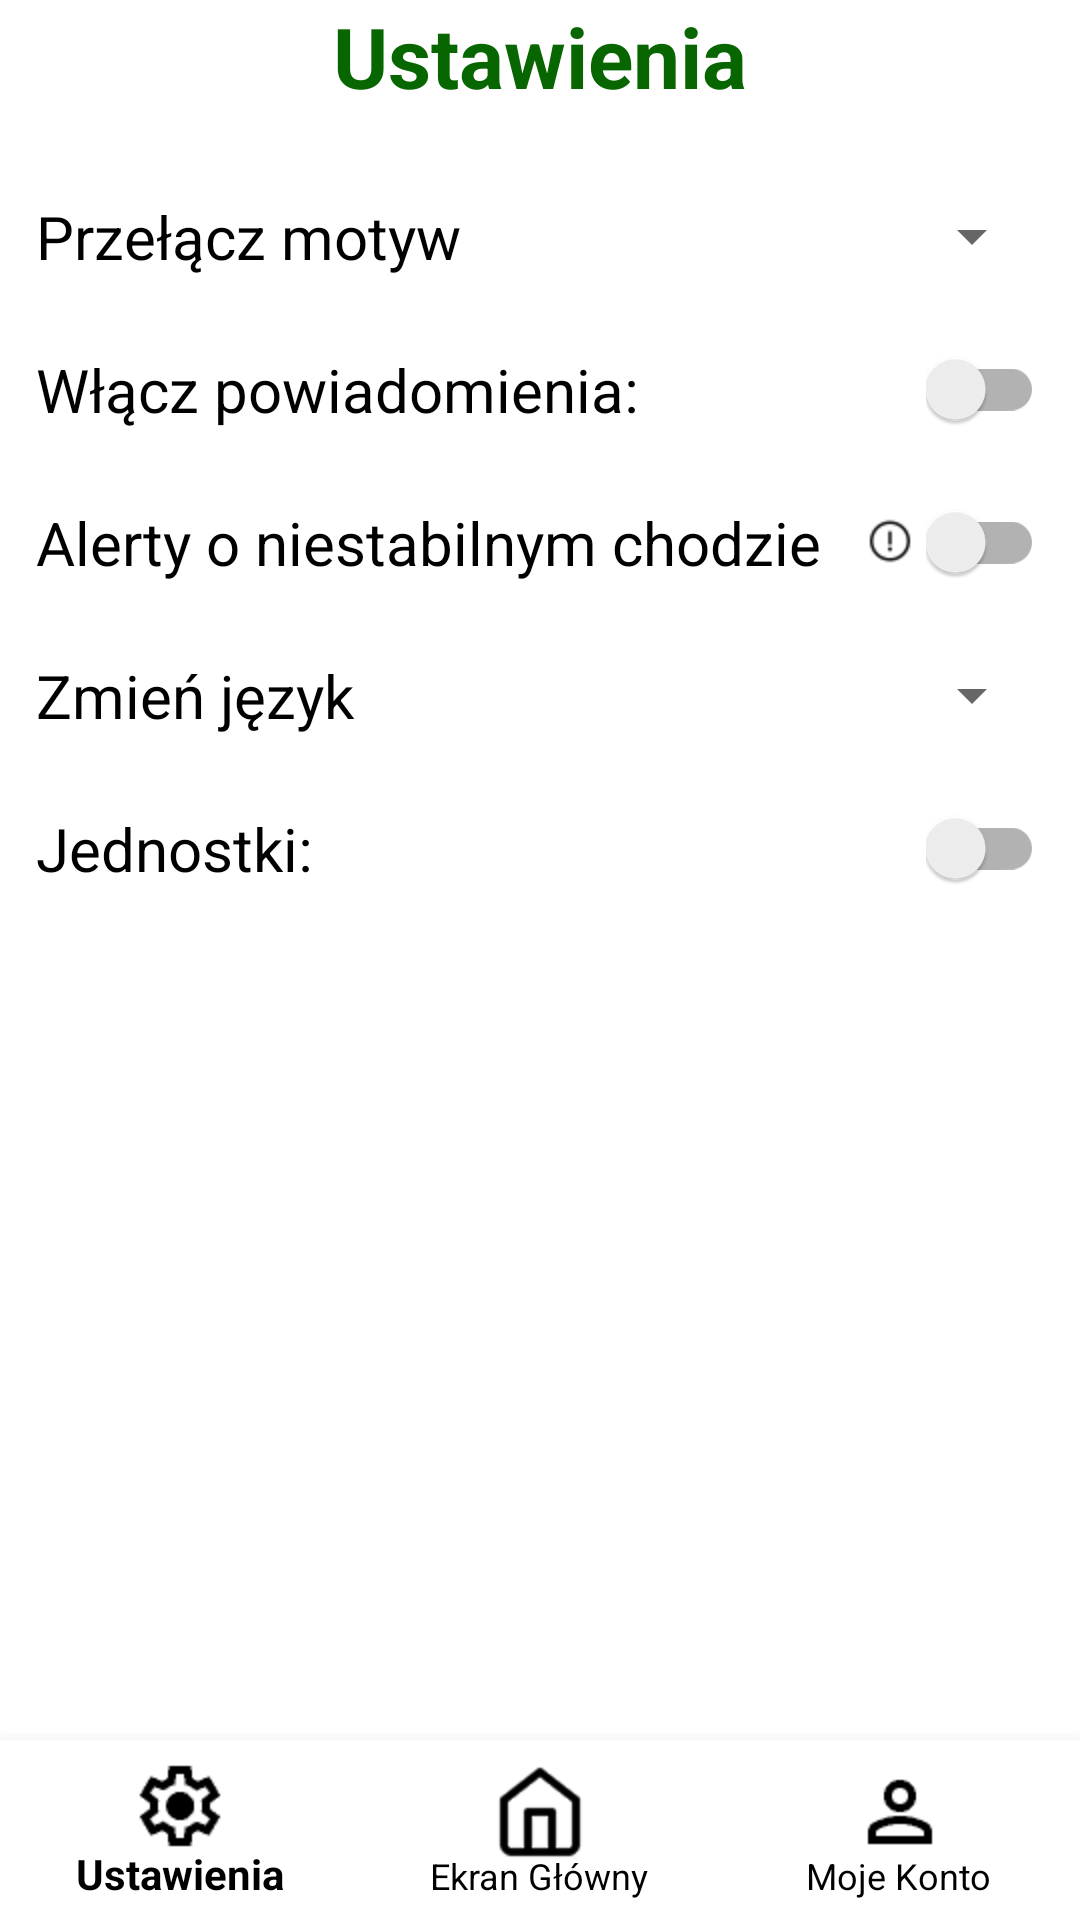

Point at icon controls on the screen. Image size 1080w x 1920h, points as point (x, y).
mark: point (890, 541)
